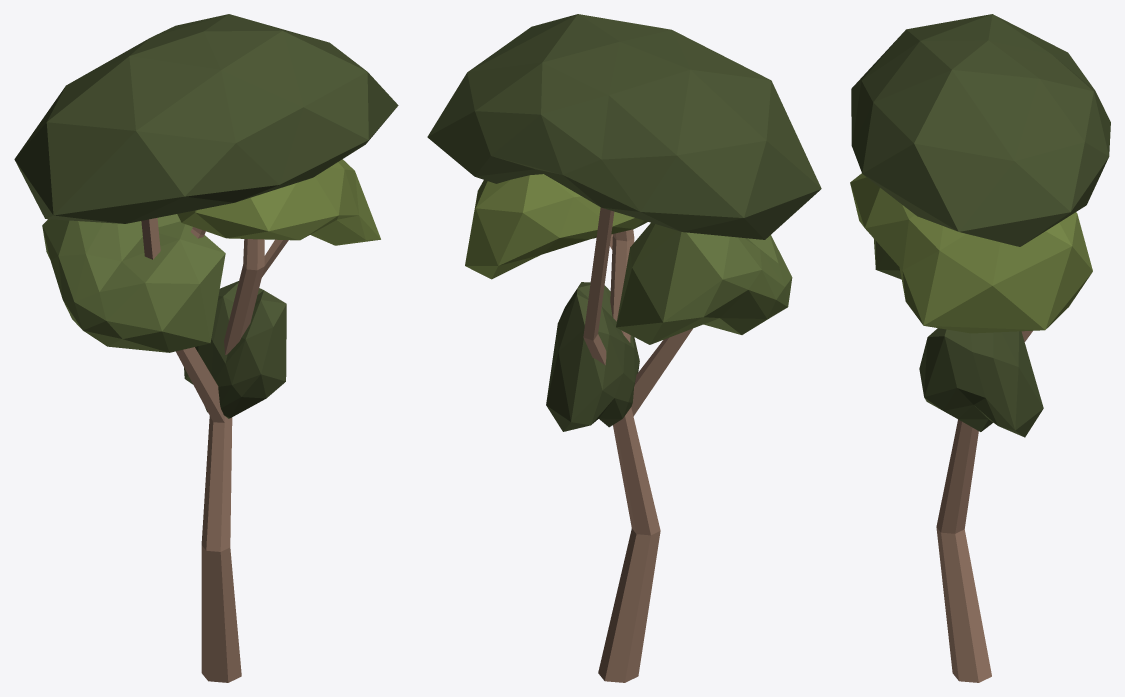
File: Tree_Type3_04.glb
3 renders of one model, left to right at view 1: azimuth 30°, elevation 25°; view 2: azimuth 150°, elevation 25°; view 3: azimuth 270°, elevation 25°, orthographic.
Parts seen in each view (by area): view 1: Tree Type3 04 Model; view 2: Tree Type3 04 Model; view 3: Tree Type3 04 Model.
Part boxes in pixels (left/top/right/bottom): Tree Type3 04 Model: left=14, top=14, right=398, bottom=682; Tree Type3 04 Model: left=427, top=14, right=821, bottom=682; Tree Type3 04 Model: left=850, top=14, right=1110, bottom=682.
Size of the model in its own units: 3.47 by 5.96 by 2.24.
1 material, 1 textured.
